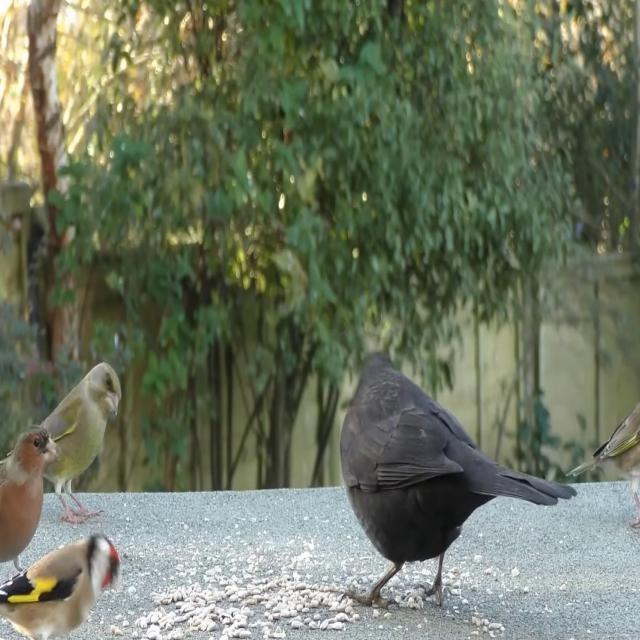beak: (106, 389, 123, 416), (112, 568, 124, 594), (46, 434, 56, 459)
bird: (338, 356, 570, 611), (18, 363, 124, 522), (0, 535, 122, 639), (0, 421, 56, 588), (576, 384, 640, 524)
